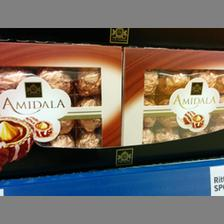Schokolade: (0, 40, 124, 148), (121, 45, 223, 146)
